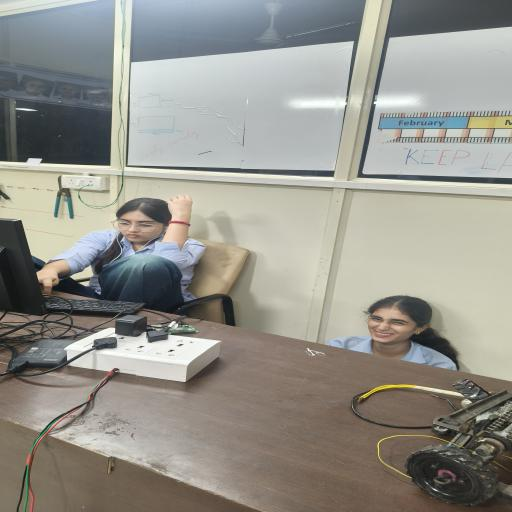survivor: (34, 195, 207, 315), (323, 295, 461, 371)
